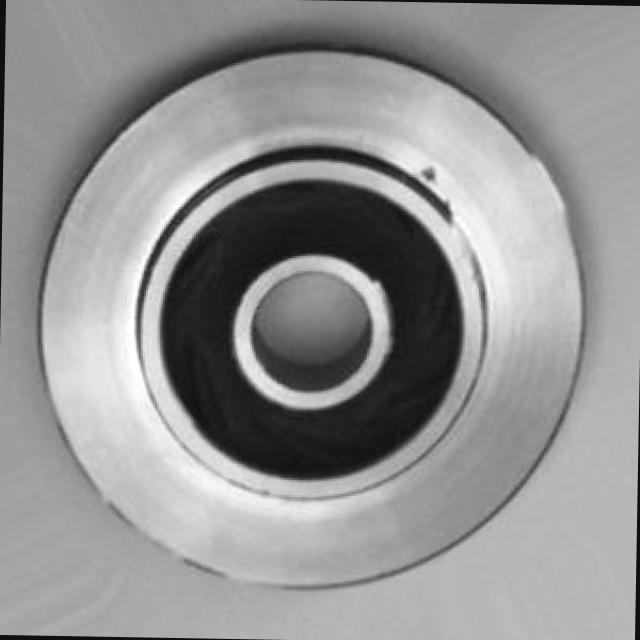Defect: (418, 158, 449, 194)
